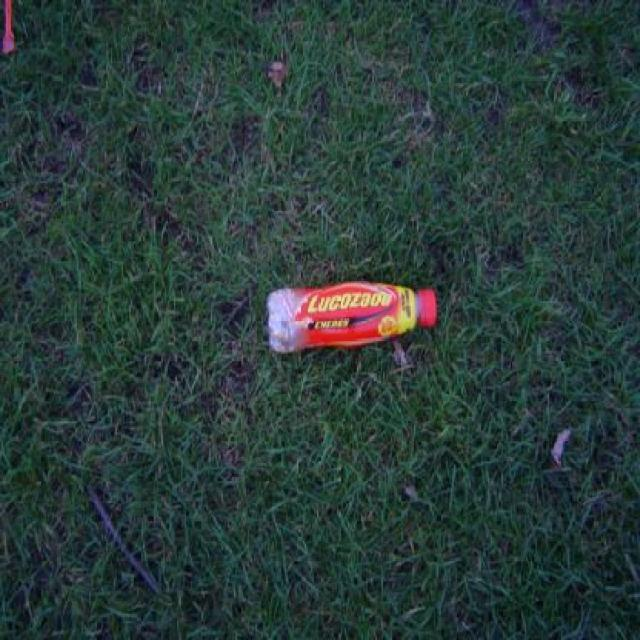garbage: (260, 285, 444, 358), (90, 473, 176, 596), (0, 0, 20, 54)
